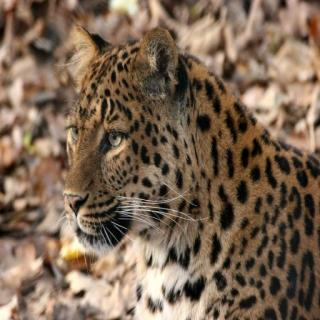Leopard: (48, 24, 320, 317)
